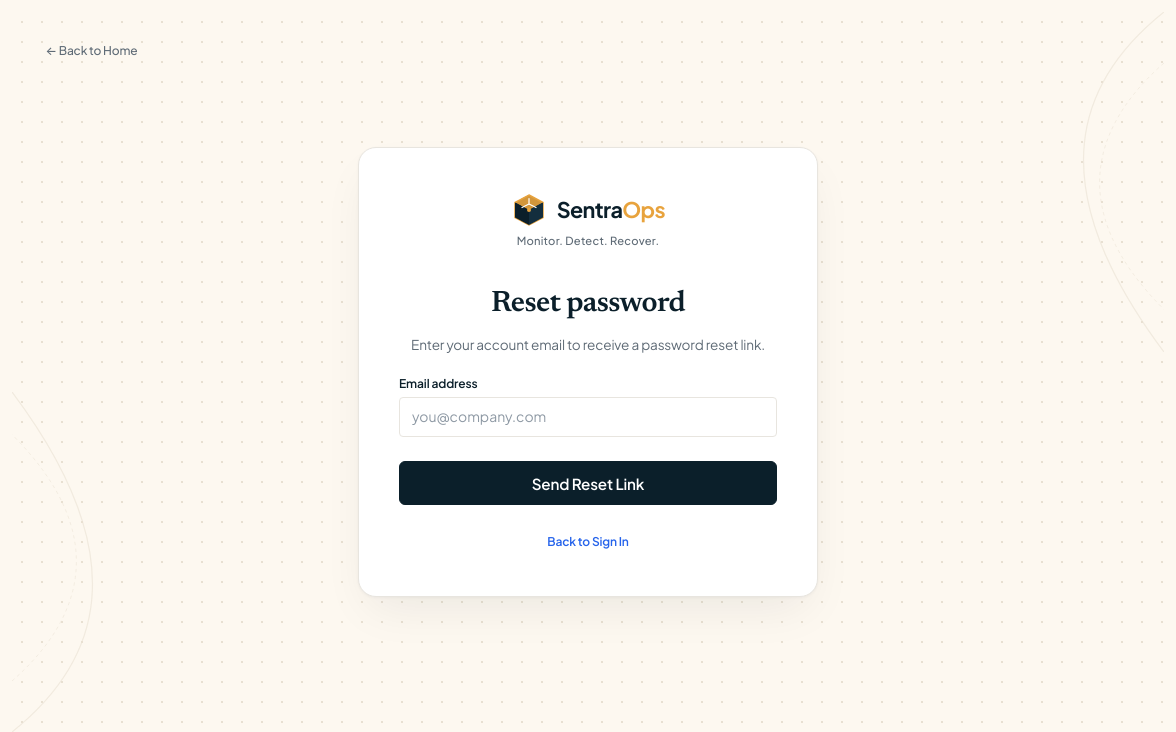
Test: Authentication Flows & Session Hydration › Password Recovery & Reset › handles forgot password submission
expect the heading "Reset password" is shown: met, box [491, 289, 685, 319]
Type "john@acme.com" into the field labelled "Email address" at (588, 417), box [399, 398, 777, 437]
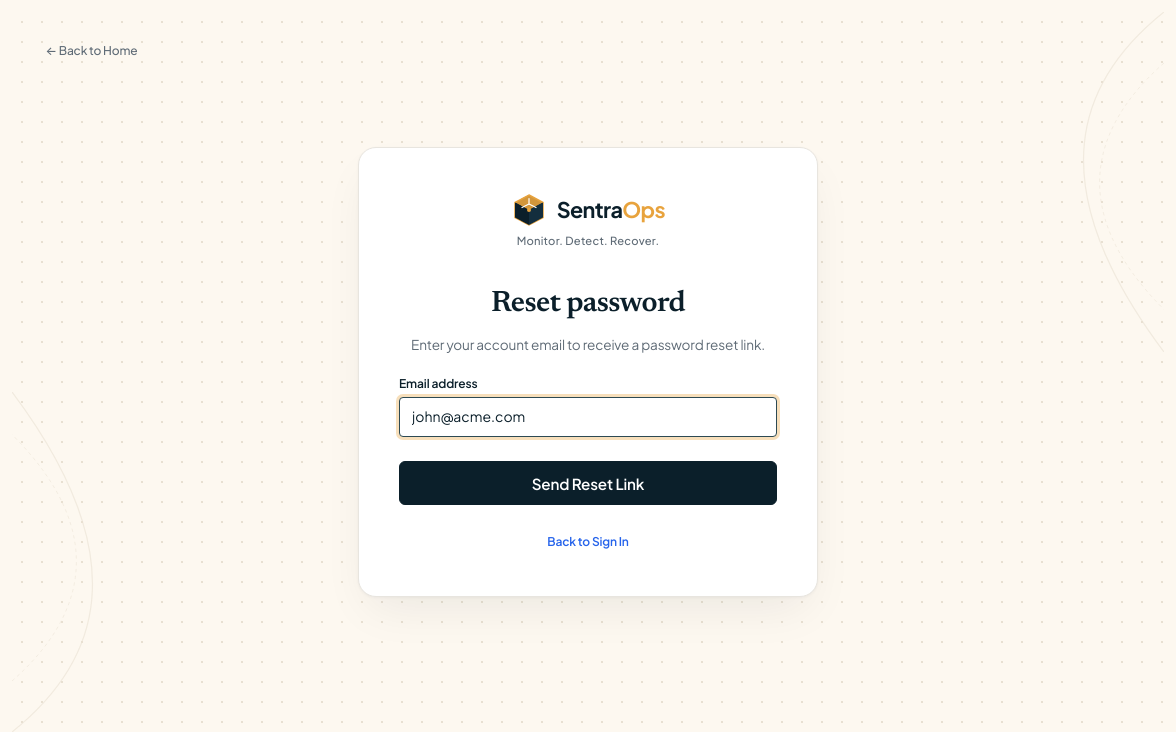
Click the button "Send Reset Link" at (588, 483), box [399, 461, 777, 505]
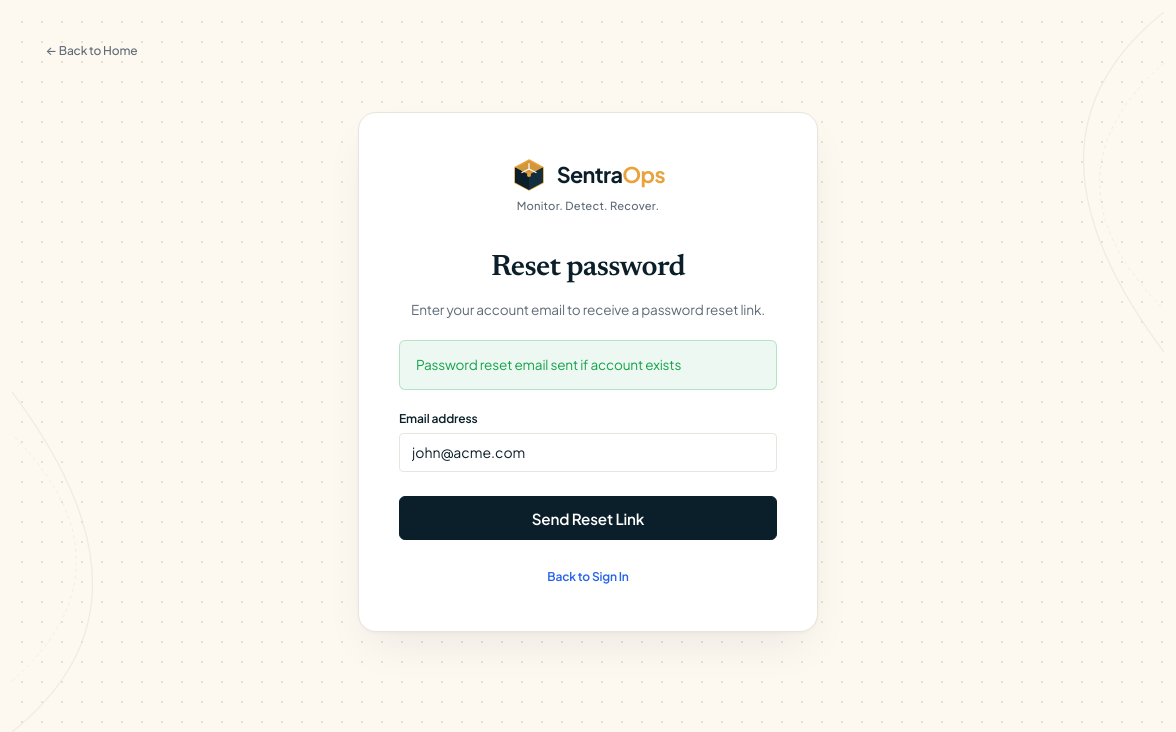
expect the message shows "Password reset email sent": met, box [416, 356, 681, 373]
